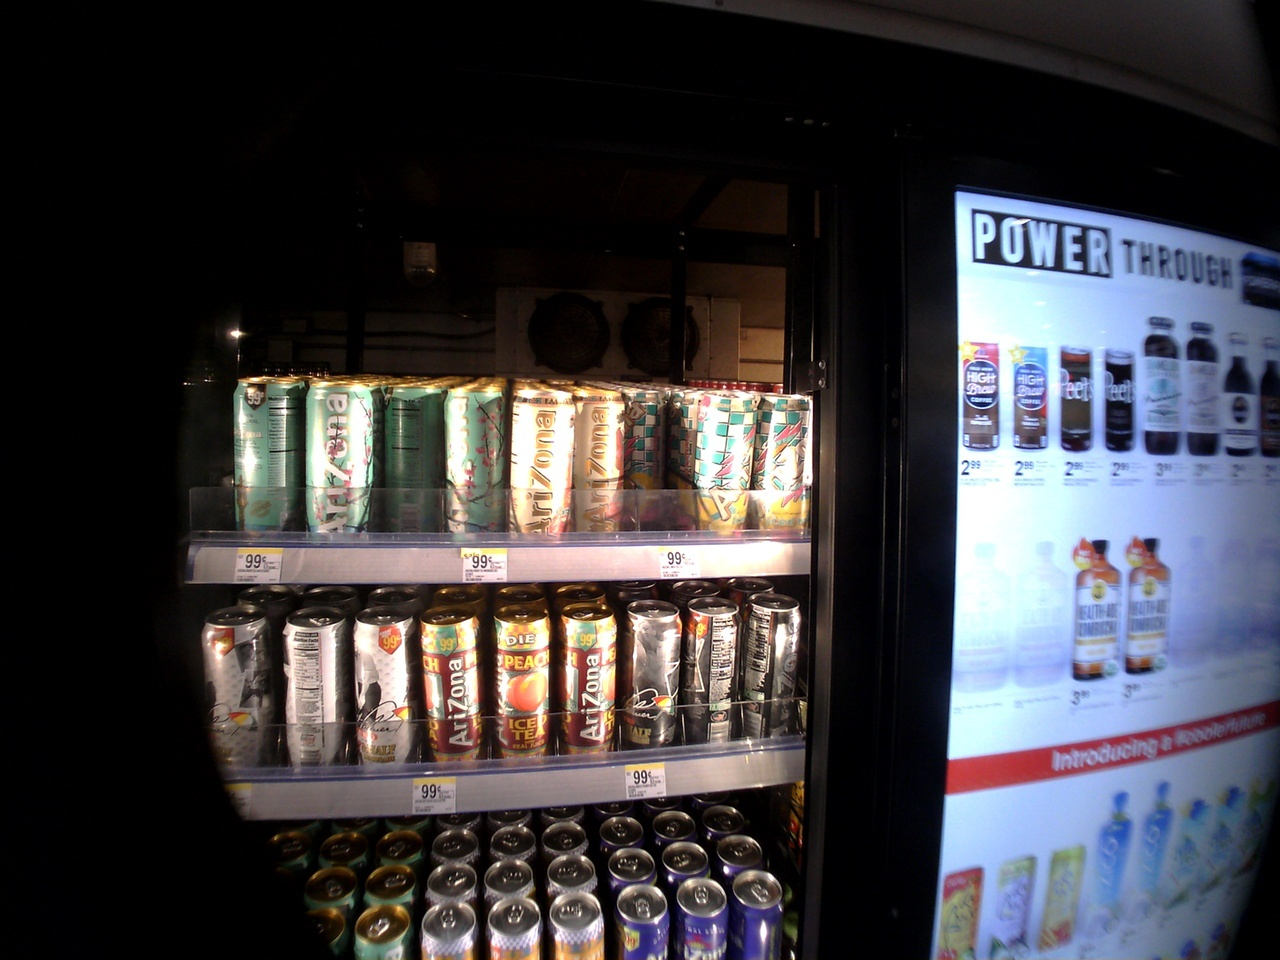shelf: (173, 586, 805, 822), (166, 374, 806, 564), (203, 798, 831, 960)
